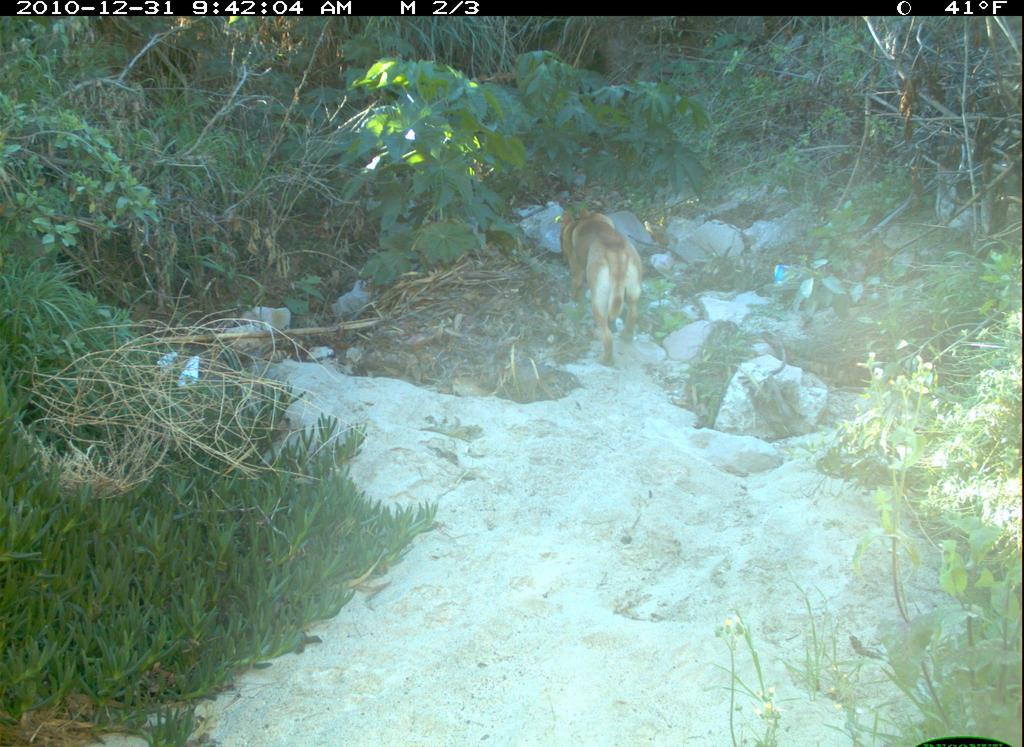dog: (553, 184, 662, 364)
